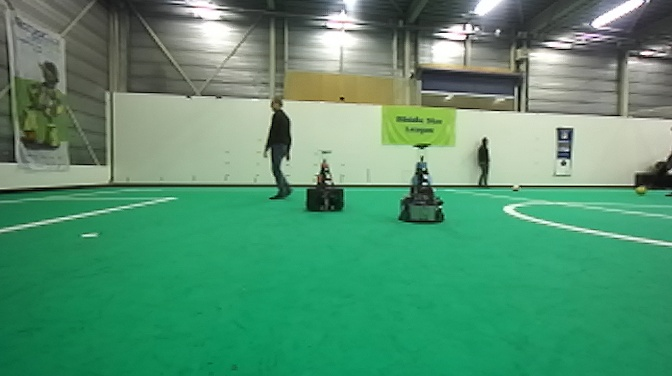ball: (633, 182, 646, 196), (509, 181, 523, 194)
human: (261, 96, 295, 201), (473, 133, 495, 189)
robot: (396, 141, 447, 225), (306, 148, 347, 212)
